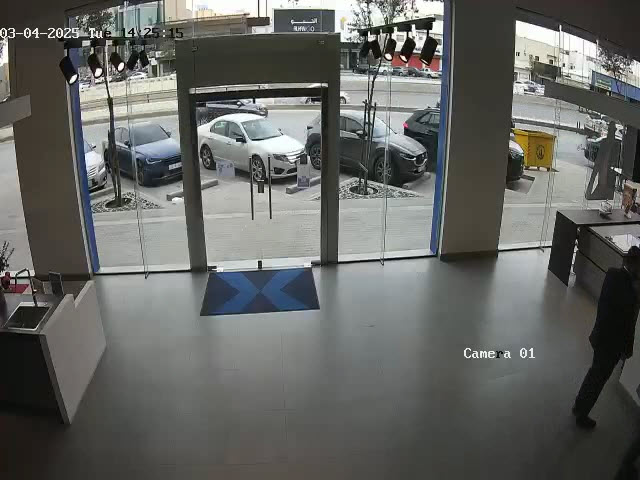employee: (572, 263, 640, 430)
